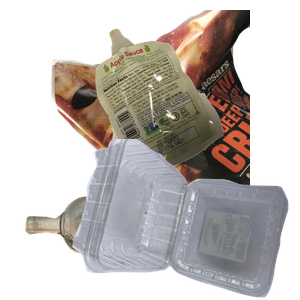glass: (22, 192, 234, 300)
paper: (49, 10, 289, 190)
plastic: (70, 139, 300, 300)
trash: (93, 26, 300, 200)
